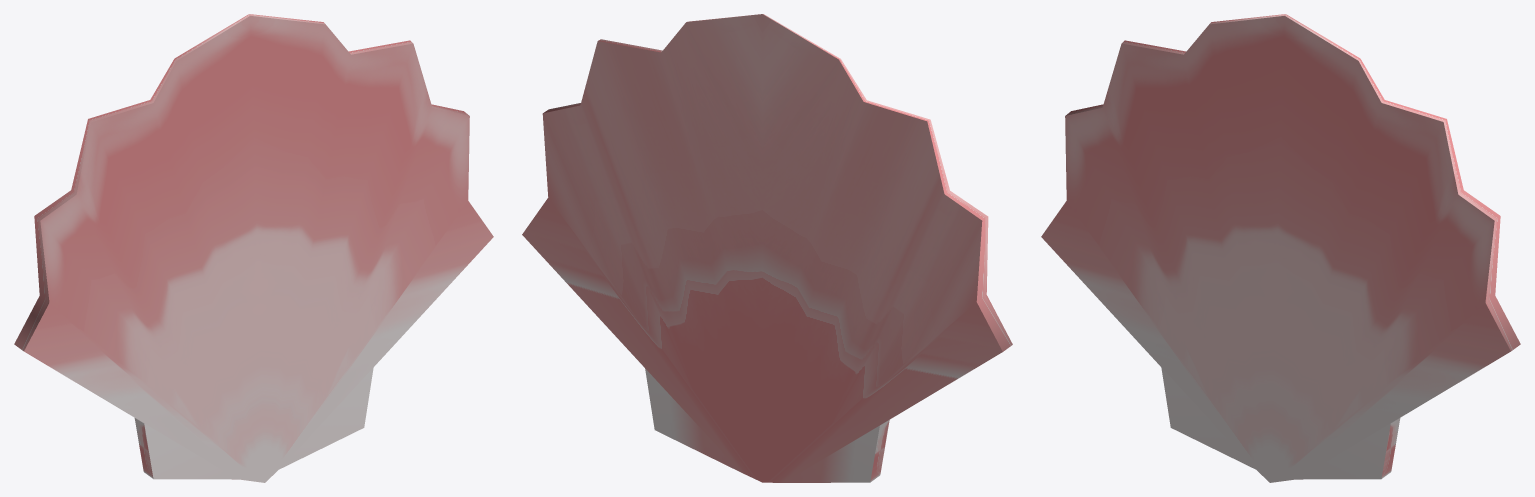
Rendered from Shell1.fbx.
3 renders of one model, left to right at view 1: azimuth 30°, elevation 25°; view 2: azimuth 150°, elevation 25°; view 3: azimuth 330°, elevation 25°, orthographic. The views are drawn at different scales.
Visible parts, largest first — view 1: Box001; view 2: Box001; view 3: Box001.
Boxes of the visible parts, <box> form: Box001: <box>14,14,493,482</box>; Box001: <box>522,14,1012,482</box>; Box001: <box>1041,14,1520,482</box>.
Size of the model in its own units: 38.4 by 35.76 by 2.25.
Materials: 1 (1 with a texture image).
